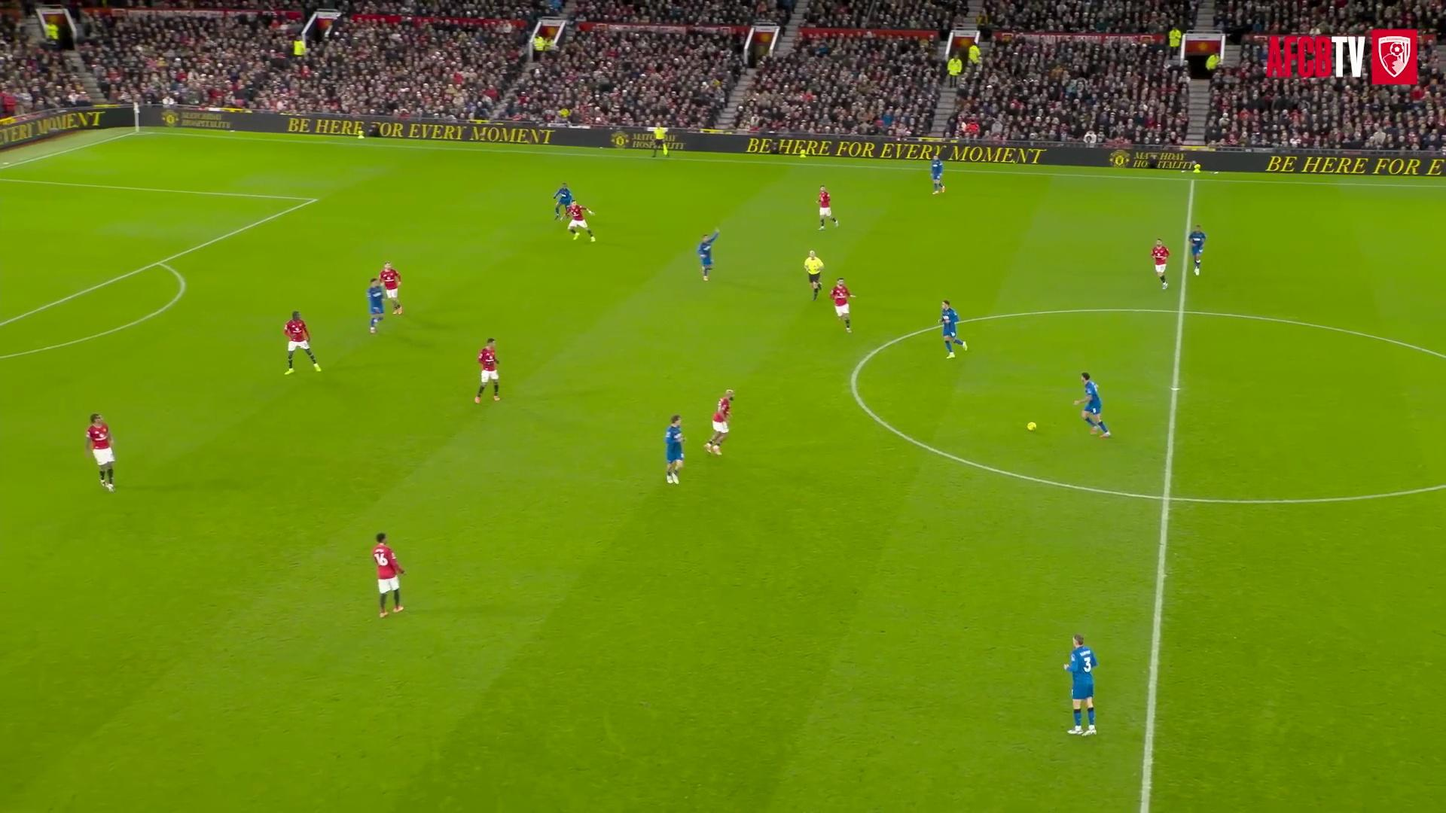football: (1025, 419, 1040, 437)
player: (1064, 635, 1097, 735), (372, 533, 404, 617), (1074, 373, 1110, 437), (284, 311, 320, 374), (86, 413, 113, 491), (704, 389, 734, 455), (474, 338, 499, 403), (940, 300, 966, 358), (665, 416, 684, 483), (830, 278, 853, 332), (379, 262, 402, 315), (566, 202, 595, 241), (697, 229, 718, 281), (1151, 239, 1170, 289), (367, 278, 384, 333), (1188, 224, 1206, 275), (818, 186, 838, 230), (554, 183, 572, 219), (930, 156, 944, 194)
referee: (804, 251, 824, 300), (652, 126, 666, 156)
